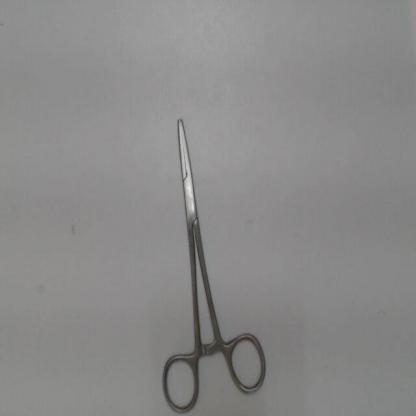Mayo Needle Holder: (157, 104, 273, 415)
